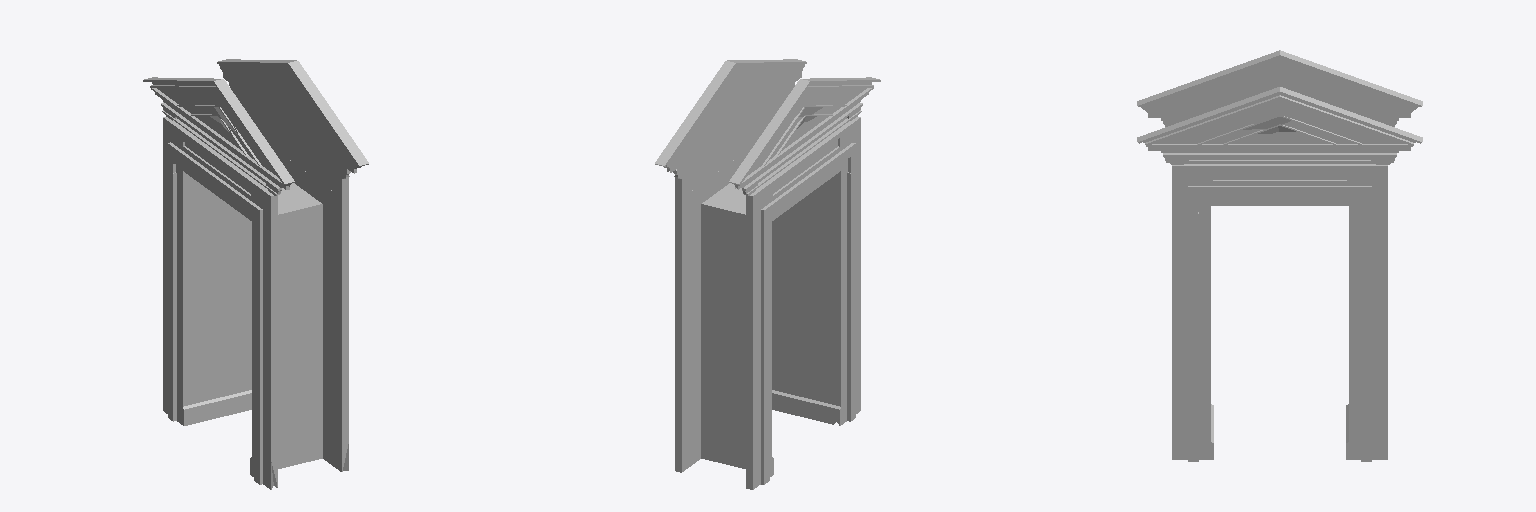
The model's file is portal OBJ.obj.
3 views of the same model, side by side, from view 1: azimuth 30°, elevation 25°; view 2: azimuth 150°, elevation 25°; view 3: azimuth 270°, elevation 25° (orthographic).
Visible parts, largest first — view 1: portal008, Object001; view 2: portal008, Object001; view 3: portal008, Object001.
Part boxes in pixels (x1,y1,x2,y2): portal008: (189, 59, 368, 471); Object001: (143, 77, 294, 489); portal008: (655, 59, 834, 472); Object001: (729, 77, 880, 489); portal008: (1137, 87, 1422, 461); Object001: (1137, 50, 1422, 408).
Size of the model in its own units: 1.25 by 5.22 by 3.64.